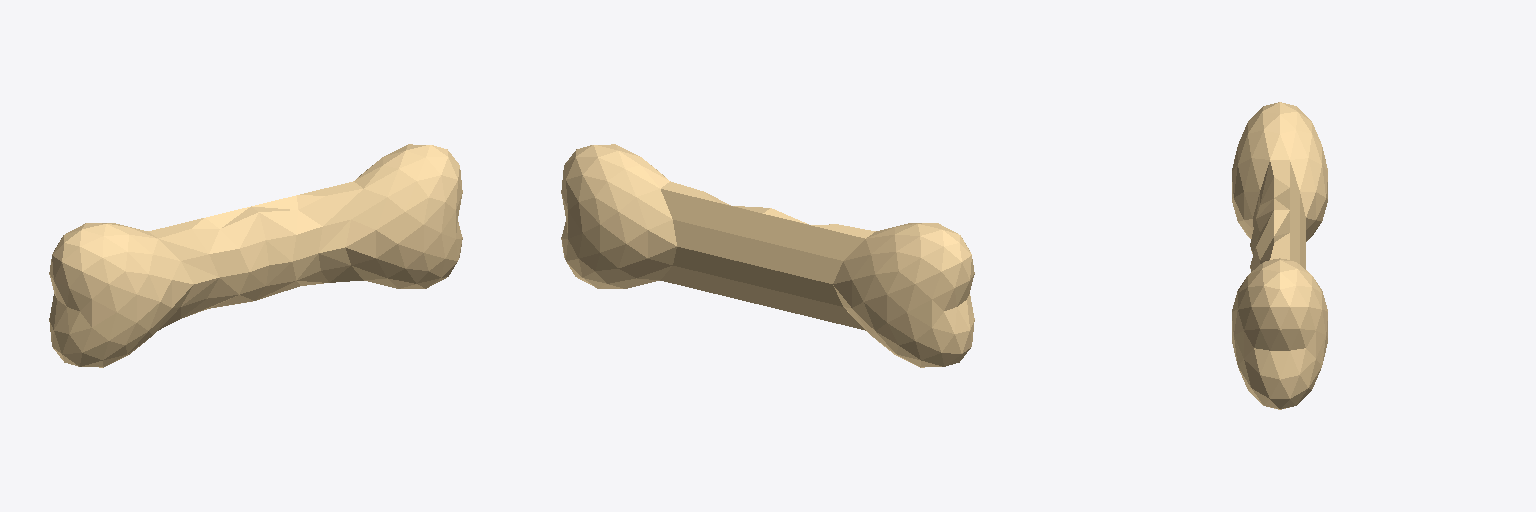
File: NOVELO_BONE.obj
3 renders of one model, left to right at view 1: azimuth 30°, elevation 25°; view 2: azimuth 150°, elevation 25°; view 3: azimuth 270°, elevation 25°, orthographic.
Parts seen in each view (by area): view 1: Symmetry.1; view 2: Symmetry.1; view 3: Symmetry.1.
Part boxes in pixels (bbox=[...]): Symmetry.1: bbox=[49, 144, 462, 367]; Symmetry.1: bbox=[561, 144, 974, 367]; Symmetry.1: bbox=[1232, 102, 1327, 409].
Bounding box in the file's own units: 224 × 72.98 × 46.44.